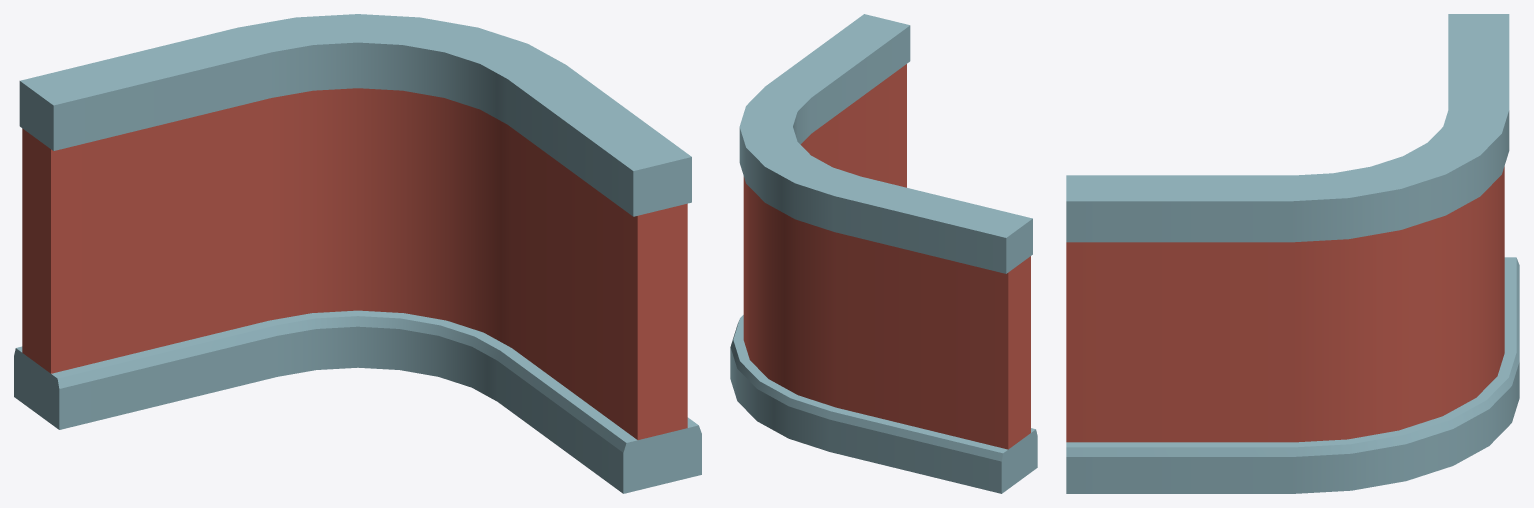
Rendered from brickWallCurveSmall.obj.
The picture shows the model from 3 angles, left to right: view 1: azimuth 30°, elevation 25°; view 2: azimuth 150°, elevation 25°; view 3: azimuth 270°, elevation 25°; orthographic projection. The views are drawn at different scales.
Visible parts, largest first — view 1: brickWallCurveSmall; view 2: brickWallCurveSmall; view 3: brickWallCurveSmall.
Part boxes in pixels (<box>): brickWallCurveSmall: <box>14,14,701,493</box>; brickWallCurveSmall: <box>730,14,1037,493</box>; brickWallCurveSmall: <box>1066,14,1519,493</box>.
Size of the model in its own units: 1 by 0.7019 by 1.
